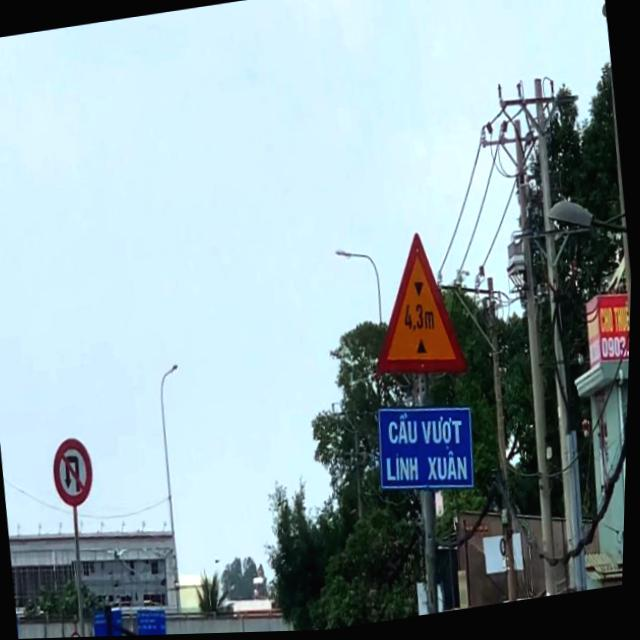Cam quay dau xe: (48, 432, 105, 512)
Chieu cao an toan: (363, 224, 477, 392)
